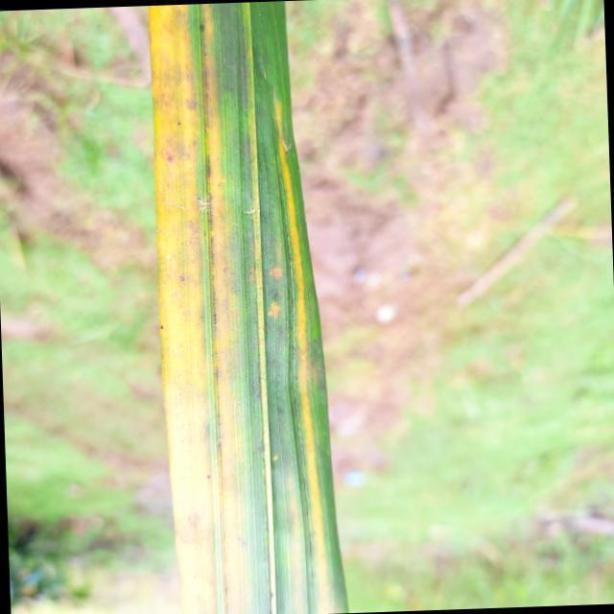Megnesium: (144, 0, 350, 614)
